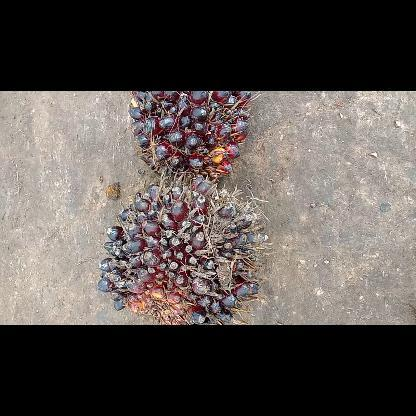TBS mentah: (97, 180, 258, 324), (127, 93, 250, 188)
